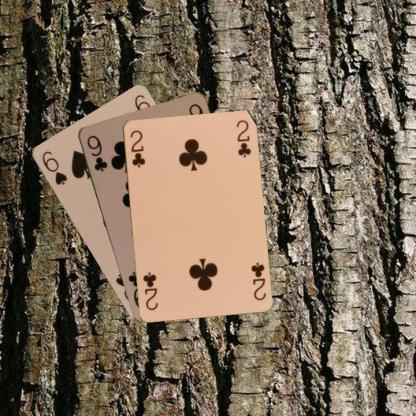2c: (127, 127, 146, 169), (248, 260, 267, 302)
6s: (39, 148, 68, 186)
9c: (84, 132, 108, 173)
